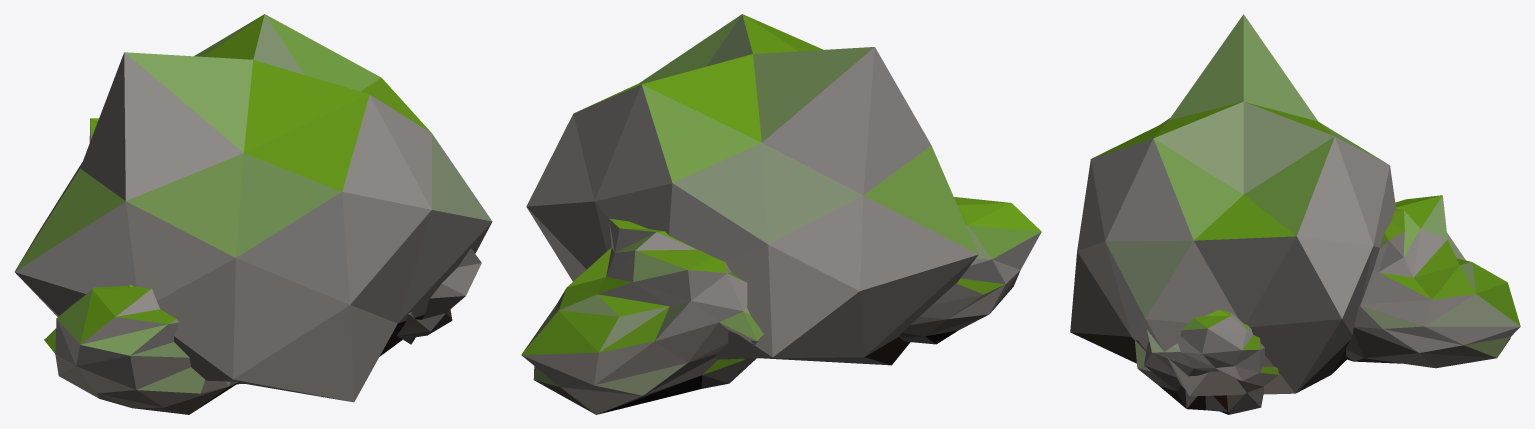
File: batu_boulder_limestone_957117.glb
3 views of the same model, side by side, from view 1: azimuth 30°, elevation 25°; view 2: azimuth 150°, elevation 25°; view 3: azimuth 270°, elevation 25° (orthographic). The views are drawn at different scales.
Parts seen in each view (by area): view 1: Batu_Jeram_Sungai; view 2: Batu_Jeram_Sungai; view 3: Batu_Jeram_Sungai.
Part boxes in pixels (x1,y1,x2,y2): Batu_Jeram_Sungai: (14, 14, 492, 414); Batu_Jeram_Sungai: (521, 14, 1041, 414); Batu_Jeram_Sungai: (1070, 14, 1520, 414).
Size of the model in its own units: 6.28 by 4.71 by 6.72.
